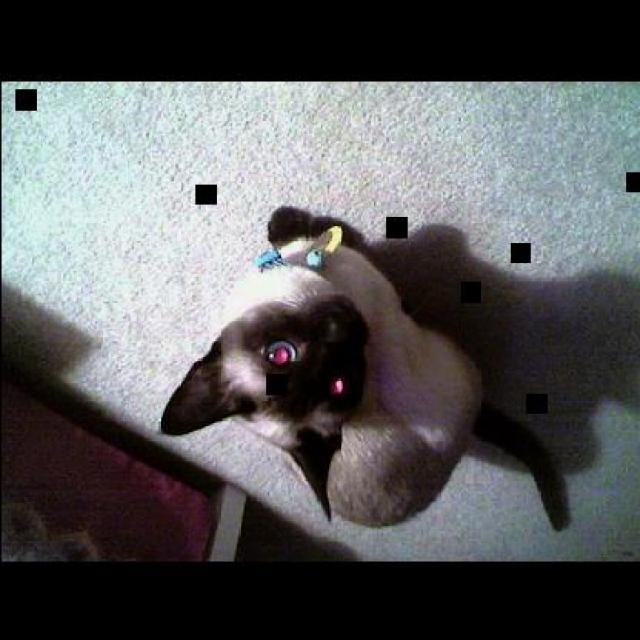unauthorized: (157, 203, 571, 532)
